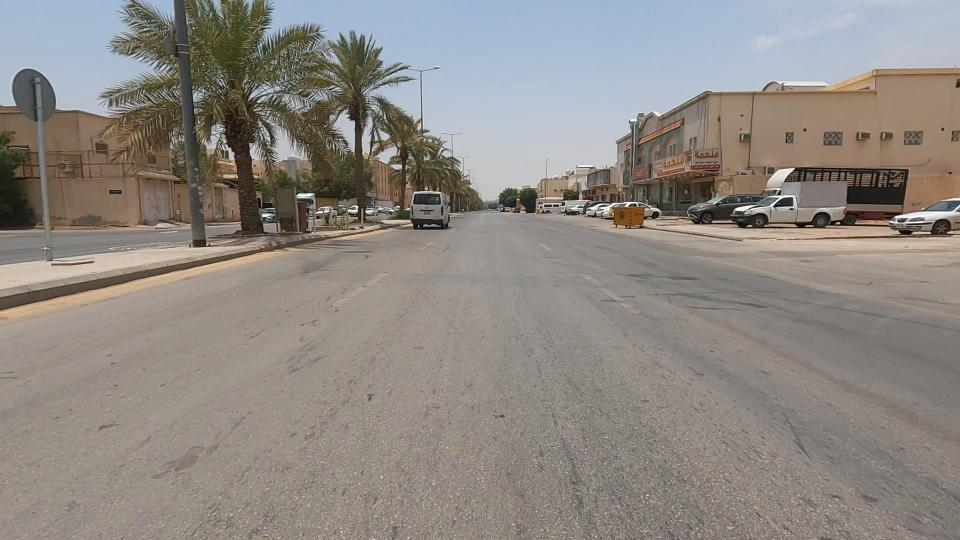BAD_BILLBOARD: (561, 155, 628, 202)
